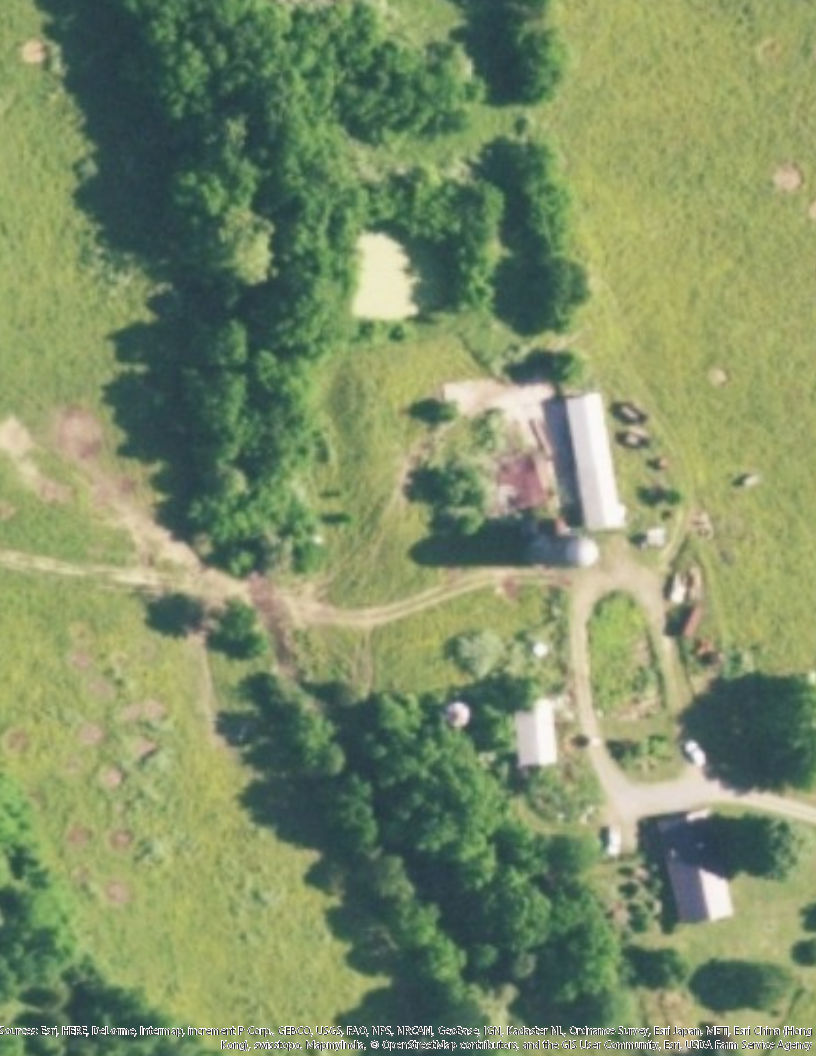cafo: (531, 384, 641, 551), (649, 802, 752, 931), (498, 690, 573, 772)
